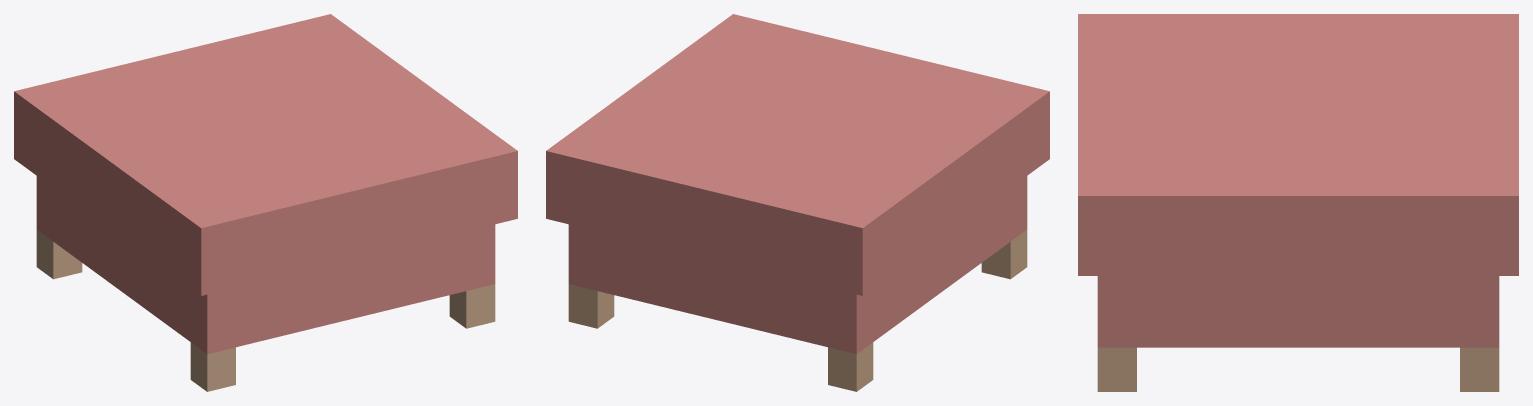
Rendered from loungeSofaOttoman.glb.
3 views of the same model, side by side, from view 1: azimuth 30°, elevation 25°; view 2: azimuth 150°, elevation 25°; view 3: azimuth 270°, elevation 25° (orthographic). The views are drawn at different scales.
Parts seen in each view (by area): view 1: loungeSofaOttoman; view 2: loungeSofaOttoman; view 3: loungeSofaOttoman.
Part boxes in pixels (x1,y1,x2,y2): loungeSofaOttoman: [14, 14, 517, 391]; loungeSofaOttoman: [546, 14, 1049, 391]; loungeSofaOttoman: [1078, 14, 1518, 391].
Bounding box in the file's own units: 0.4398 × 0.23 × 0.45.
